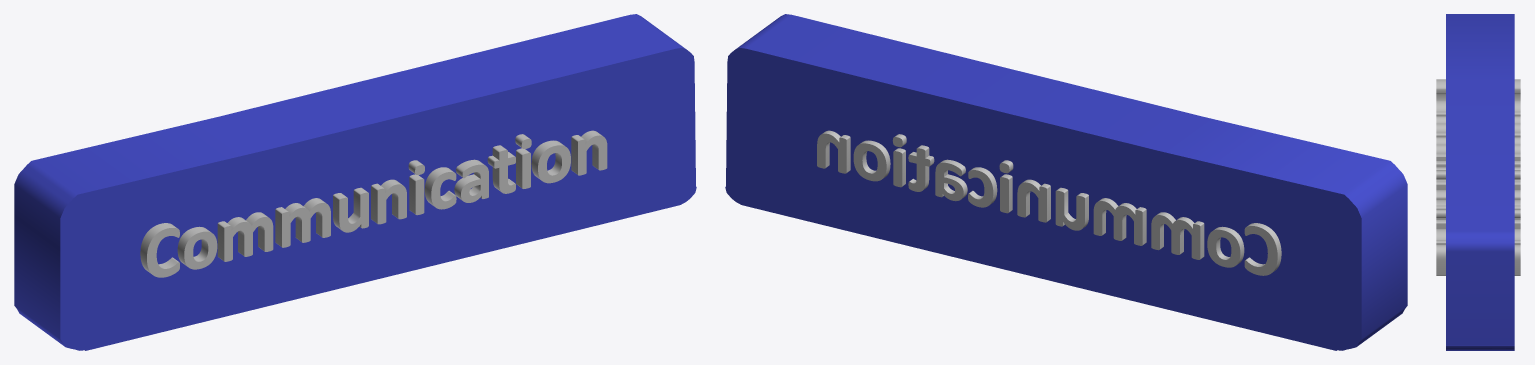
The model's file is commodel.fbx.
The picture shows the model from 3 angles, left to right: view 1: azimuth 30°, elevation 25°; view 2: azimuth 150°, elevation 25°; view 3: azimuth 270°, elevation 25°; orthographic projection. The views are drawn at different scales.
Visible parts, largest first — view 1: root, node_id35; view 2: root, node_id35; view 3: root, node_id35.
Part boxes in pixels (bbox=[...]): root: bbox=[14, 14, 696, 350]; node_id35: bbox=[140, 130, 607, 277]; root: bbox=[725, 14, 1407, 350]; node_id35: bbox=[817, 130, 1281, 275]; root: bbox=[1446, 14, 1514, 350]; node_id35: bbox=[1436, 79, 1520, 275].
Size of the model in its own units: 0.4177 by 0.0993 by 0.0644.
